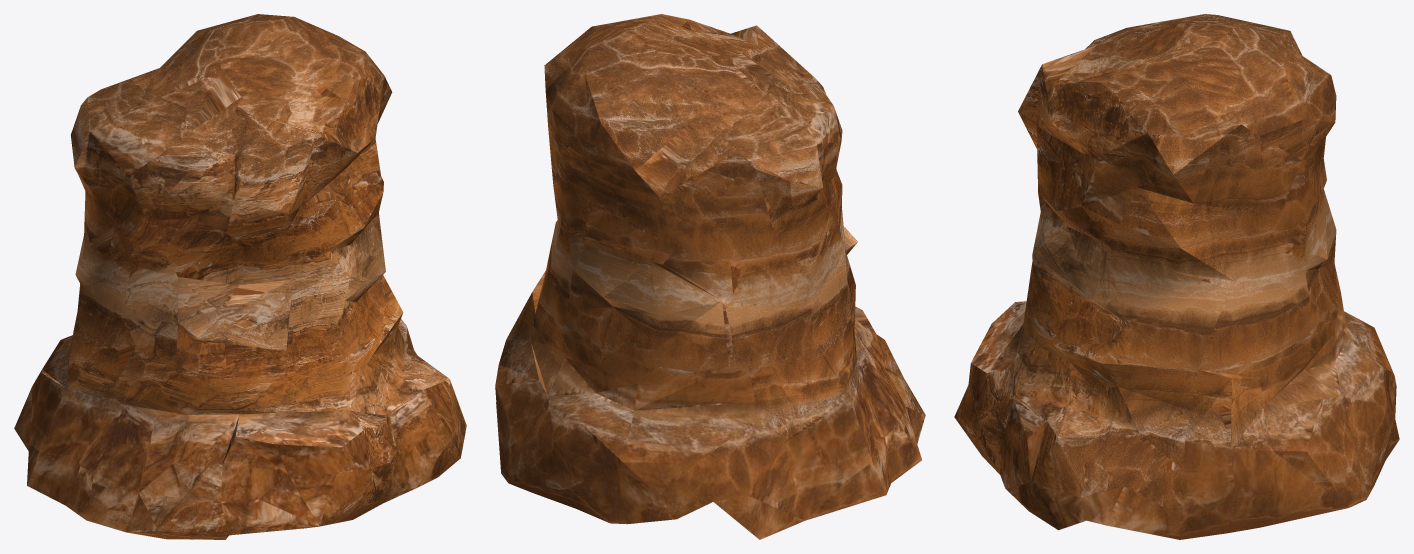
Rendered from de_sandstone_stack_lod1.glb.
3 renders of one model, left to right at view 1: azimuth 30°, elevation 25°; view 2: azimuth 150°, elevation 25°; view 3: azimuth 270°, elevation 25°, orthographic. The views are drawn at different scales.
Parts seen in each view (by area): view 1: mesh; view 2: mesh; view 3: mesh.
Part boxes in pixels (box(x1,y1,x2,y2)): mesh: box(14, 14, 466, 539); mesh: box(495, 14, 925, 539); mesh: box(954, 14, 1399, 539).
Bounding box in the file's own units: 1.84 × 1.87 × 1.75.
1 material, 1 textured.
